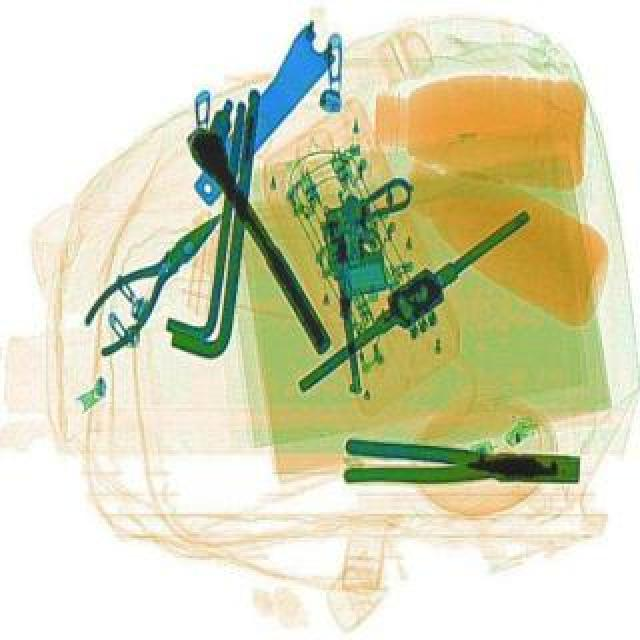gun: (320, 174, 444, 394)
wrench: (70, 192, 244, 360), (344, 438, 584, 486)
